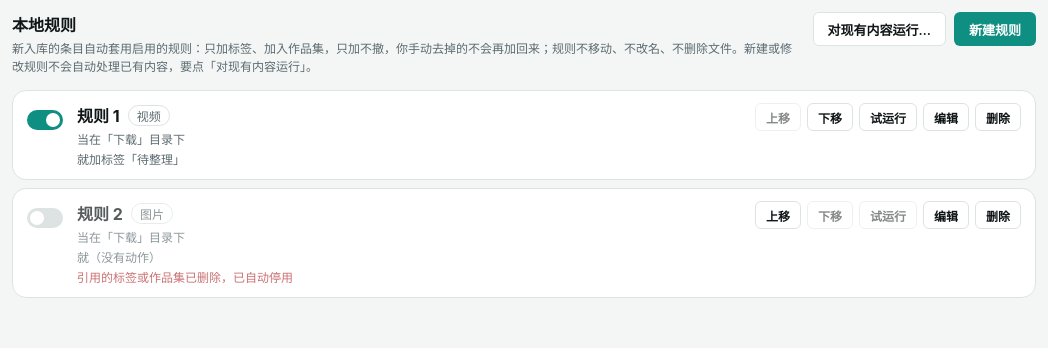
Test: 本地规则面板 › 启用失败（例如动作已被删光）：显示原因，开关按重取的列表复原
Click the checkbox with test id "rules-toggle" at {"x": 45, "y": 218}, box [27,208,63,228]
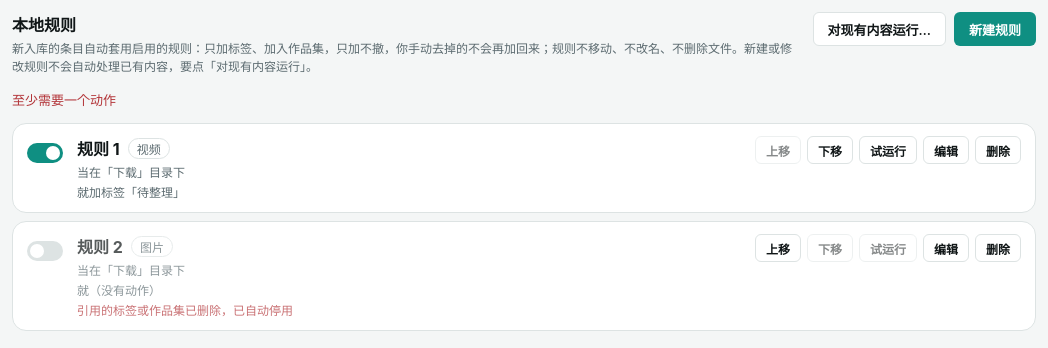
Expected: the checkbox with test id "rules-toggle" is not checked, [27,241,63,261]
Expected: the message with test id "rules-error" reads "至少需要一个动作", [12,92,116,108]
